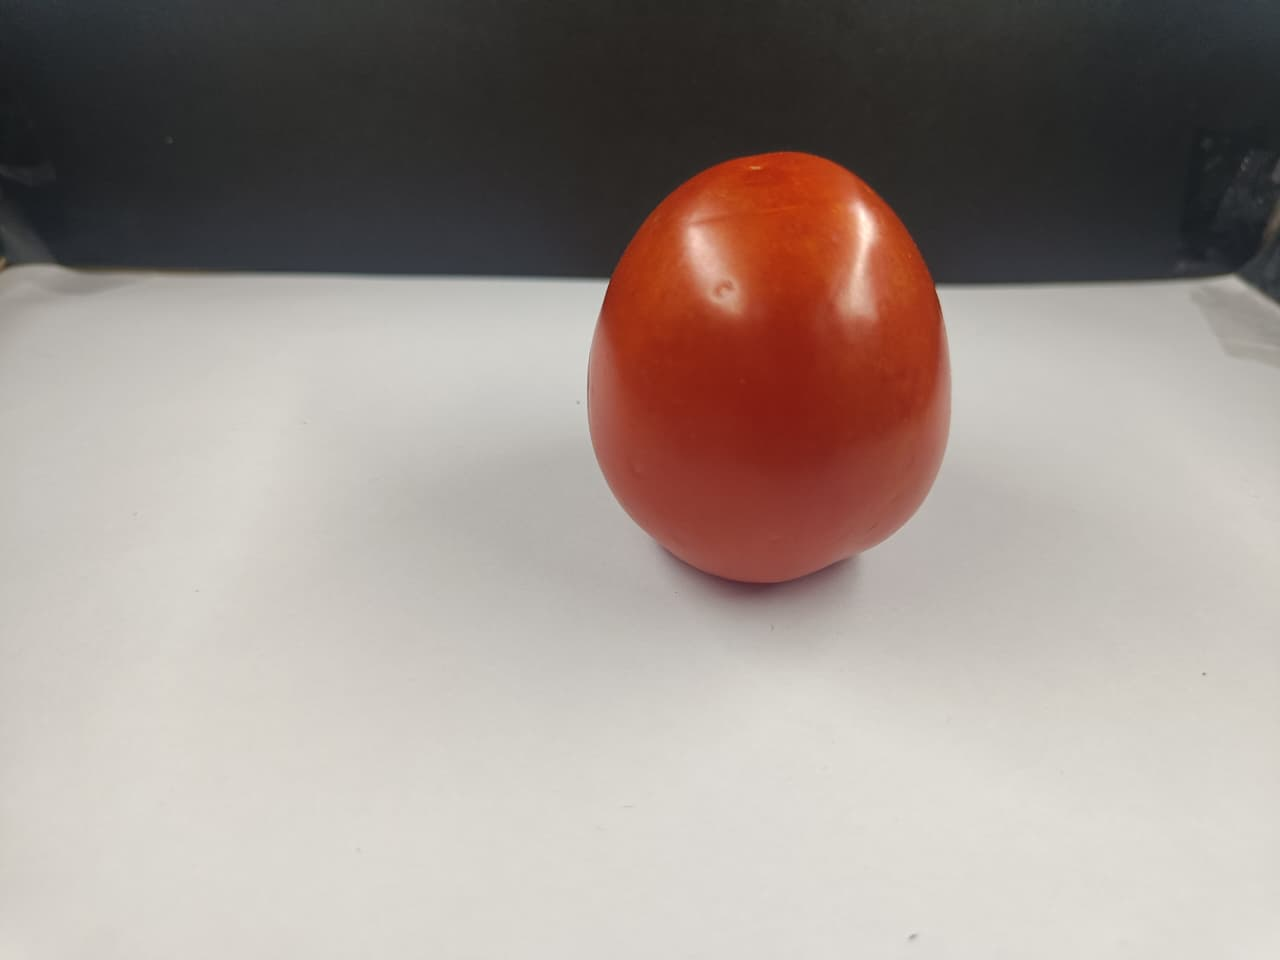ripe: (567, 126, 964, 608)
